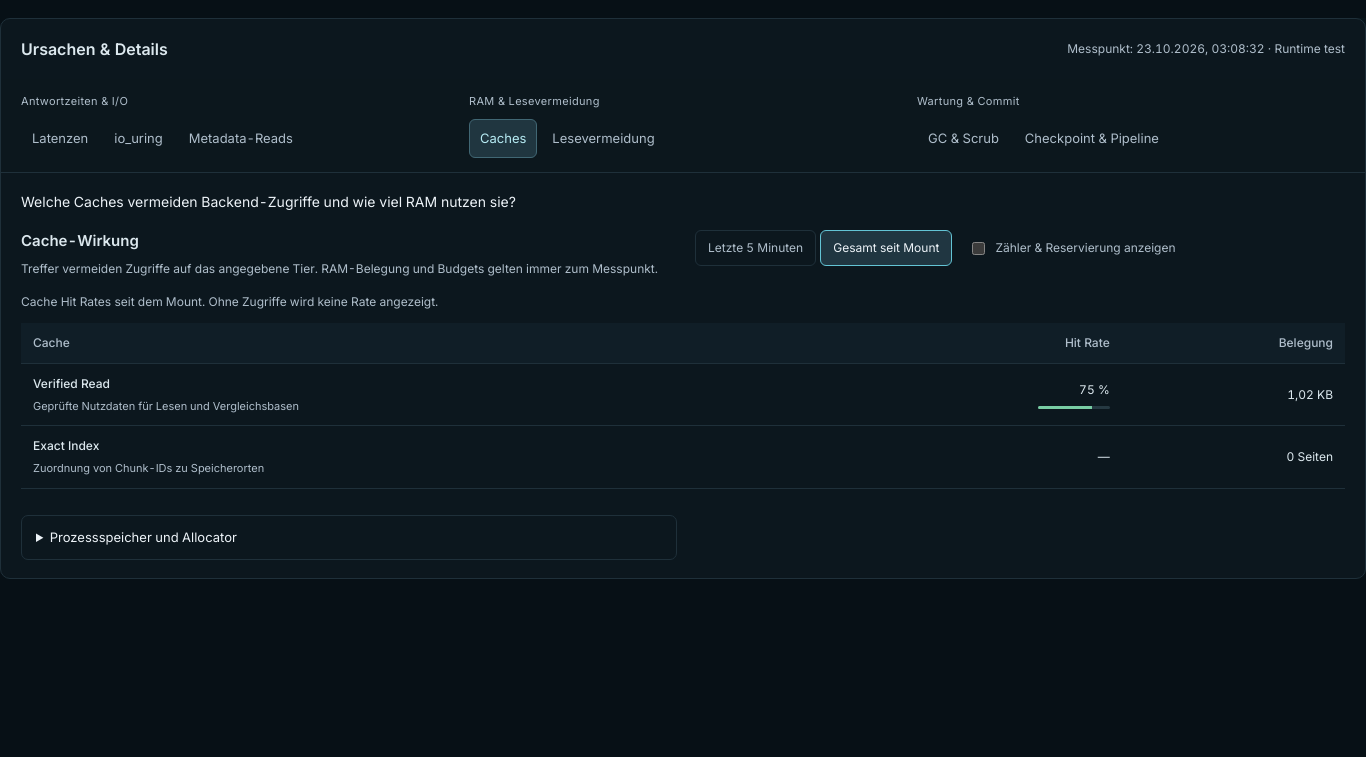
it: separates allocator retention from cache occupancy and preserves missing samples
Click the heading "Prozessspeicher und Allocator": (143, 537) [50,529,237,545]
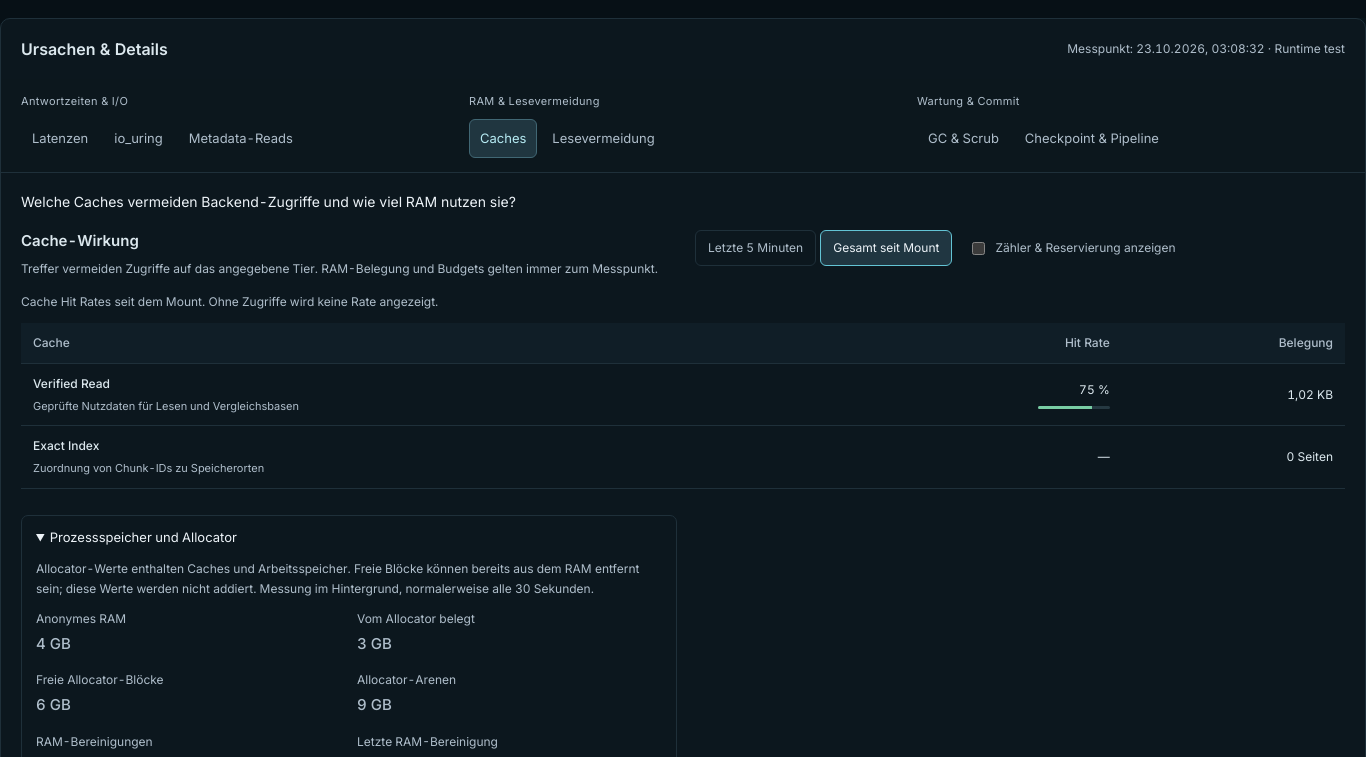
Result: the text "Freie Allocator-Blöcke" is shown at [36,672,164,687]
Result: the text "6 GB" is shown at [36,695,71,714]
Result: the text "diese Werte werden nicht addiert" is shown at [36,561,639,596]
